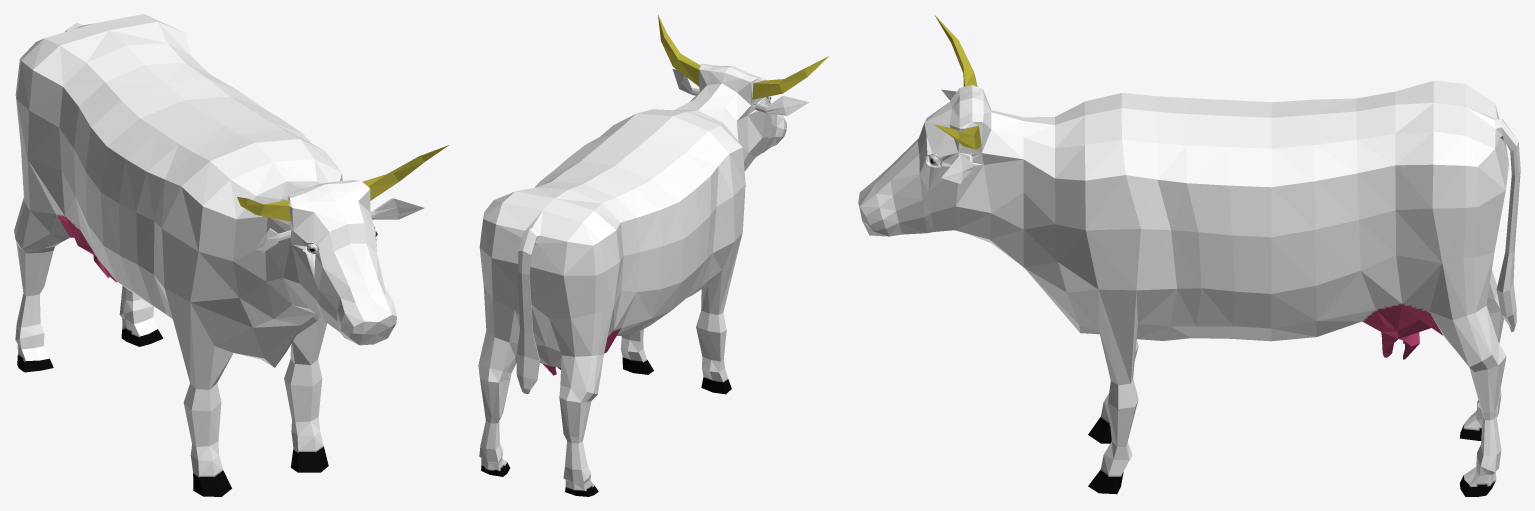
The model's file is Cow.fbx.
3 renders of one model, left to right at view 1: azimuth 30°, elevation 25°; view 2: azimuth 150°, elevation 25°; view 3: azimuth 270°, elevation 25°, orthographic. The views are drawn at different scales.
Visible parts, largest first — view 1: Cow; view 2: Cow; view 3: Cow.
Part boxes in pixels (x1,y1,x2,y2): Cow: (14, 14, 448, 496); Cow: (478, 15, 828, 496); Cow: (858, 15, 1520, 496).
Size of the model in its own units: 91 by 150 by 230.
1 material, 1 textured.
